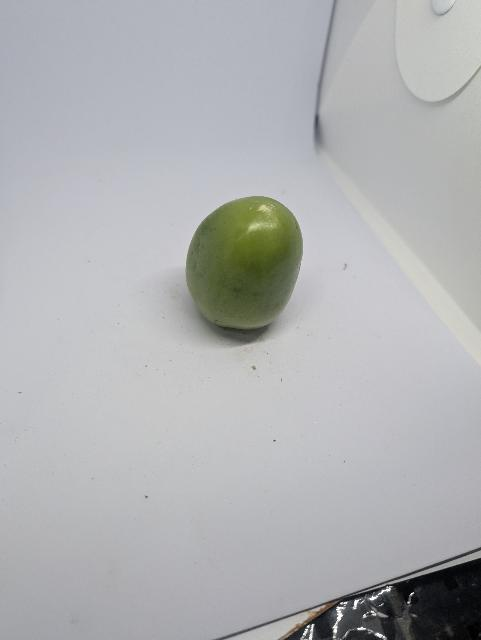green: (167, 170, 312, 352)
